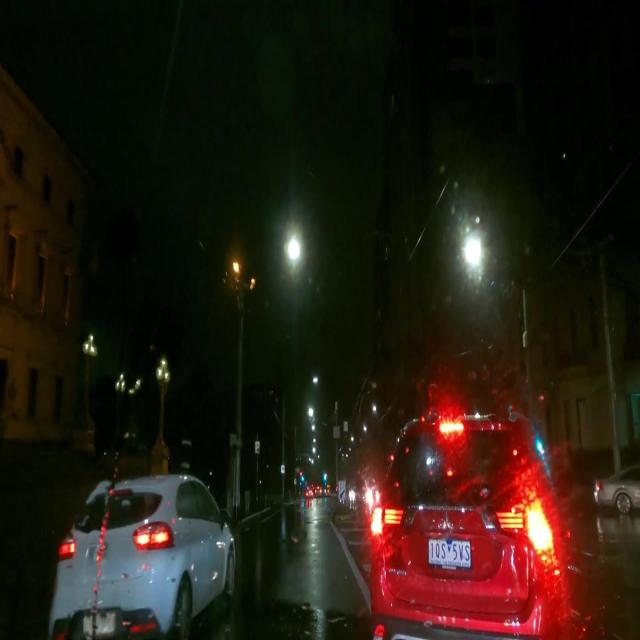Car: (32, 480, 234, 638)
